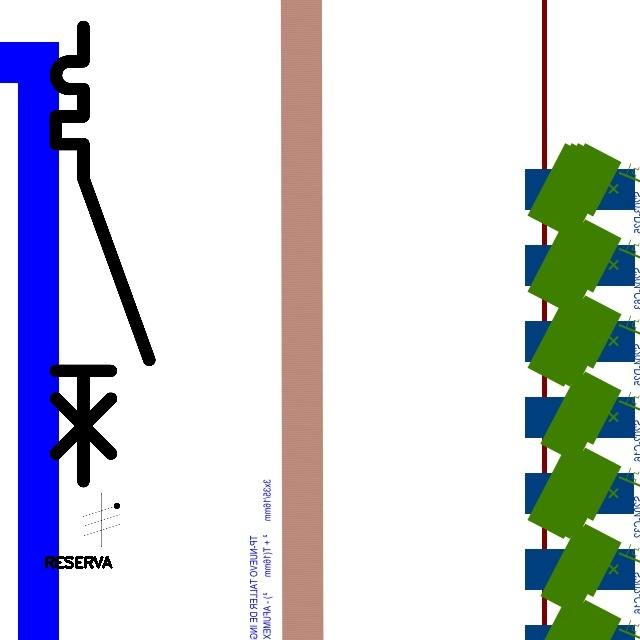interruptor_termomagnetico: (44, 15, 161, 493)
